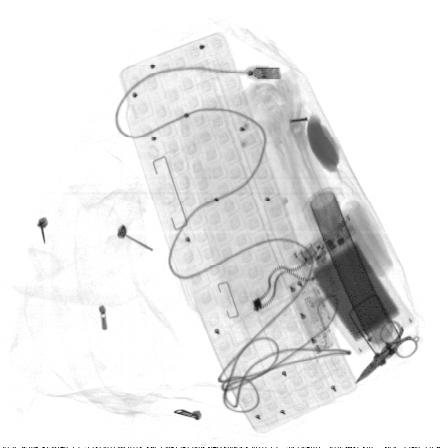Powerbank: (285, 213, 415, 356)
Scissors: (352, 317, 417, 387)
